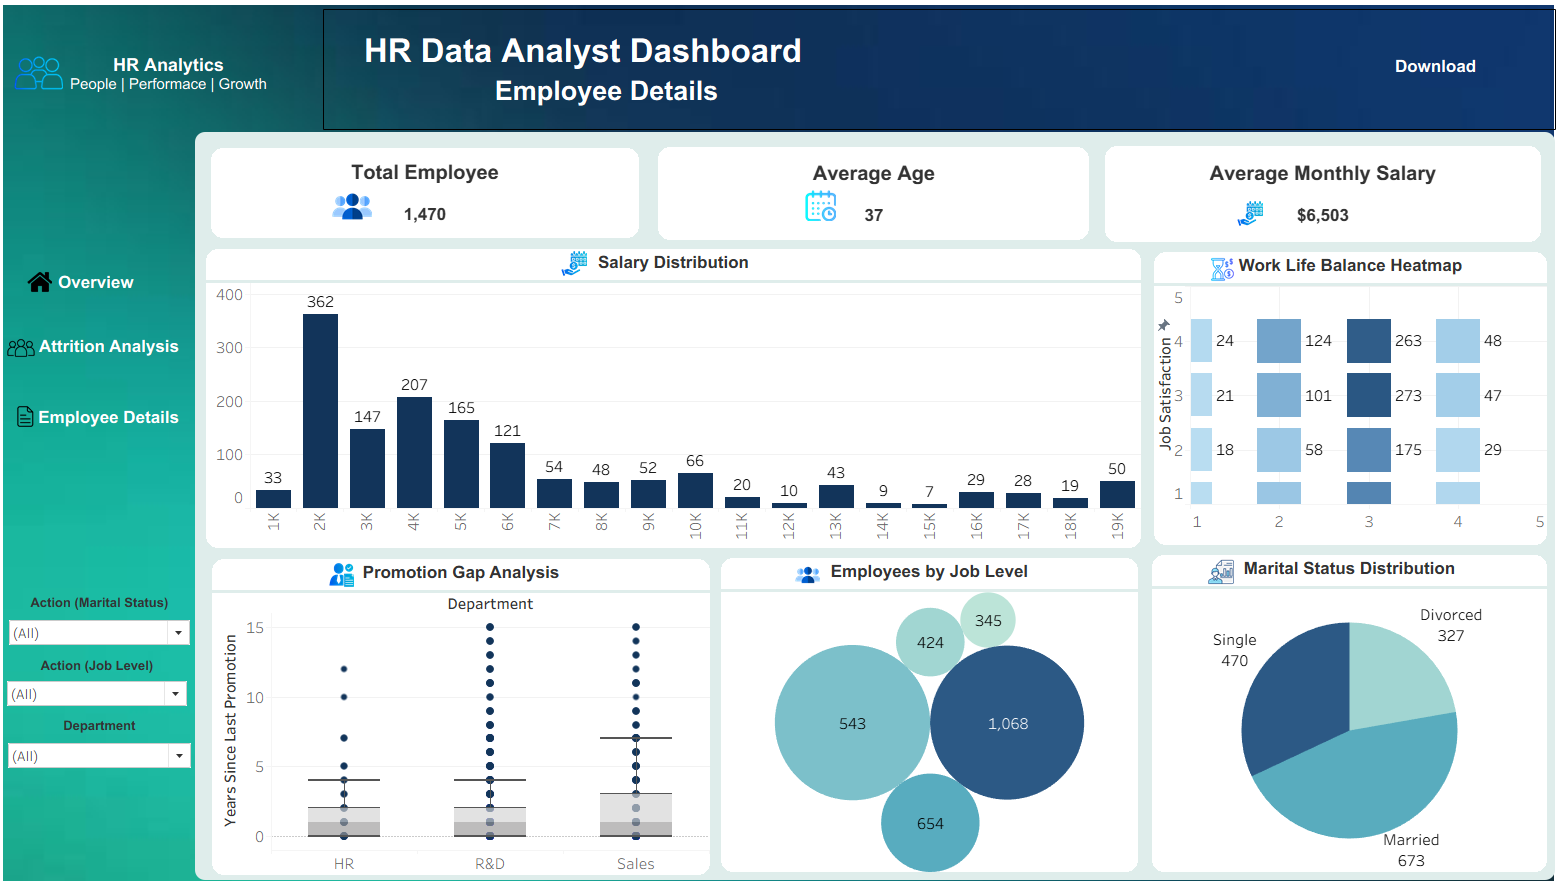

The page's visual inventory and layout, read from the dashboard file:
{"tool":"tableau","page":{"name":"Employee Details","canvas":[1580,900],"ordinal":1},"visuals":[{"type":"image","param":"C:/Users/User/OneDrive/Desktop/HR tableau Project/back.png","box":[8,8,1564,884]},{"type":"text","box":[334,16,1233,121]},{"type":"text","box":[54,39,251,84]},{"type":"dashboard-object","box":[1365,48,164,52]},{"type":"image","param":"C:/Users/User/Downloads/group (1).png","box":[25,54,49,51]},{"type":"blank","box":[206,139,1360,748]},{"type":"worksheet","title":"Average Monthly Salary","mark":"Automatic","box":[1116,153,436,96]},{"type":"worksheet","title":"Average_Age","mark":"Automatic","box":[669,154,431,93]},{"type":"worksheet","title":"Total Employee","mark":"Automatic","box":[222,155,428,90]},{"type":"image","param":"C:/Users/User/AppData/Local/Temp/TableauTemp/0cwefv51oyivfo18ijgc910dbd0g/Sheets","box":[340,193,46,40]},{"type":"image","param":"C:/Users/User/AppData/Local/Temp/TableauTemp/0cwefv51oyivfo18ijgc910dbd0g/Sheets","box":[815,197,33,31]},{"type":"image","param":"C:/Users/User/AppData/Local/Temp/TableauTemp/0cwefv51oyivfo18ijgc910dbd0g/Sheets","box":[1246,207,30,26]},{"type":"dashboard-object","box":[10,255,196,69]},{"type":"worksheet","title":"Salary Distribution","mark":"Bar","rows":["Employee Number"],"cols":["Monthly Income (bin) 2"],"box":[217,256,935,299]},{"type":"image","param":"C:/Users/User/Downloads/wages (1).png","box":[570,257,31,26]},{"type":"worksheet","title":"Work Life Balance Heatmap","mark":"Square","rows":["Job Satisfaction"],"cols":["Work Life Balance"],"box":[1165,259,393,293]},{"type":"image","param":"C:/Users/User/AppData/Local/Temp/TableauTemp/0cwefv51oyivfo18ijgc910dbd0g/Sheets","box":[1220,262,26,28]},{"type":"image","param":"C:/Users/User/Downloads/home (2).png","box":[38,276,26,25]},{"type":"dashboard-object","box":[12,323,192,62]},{"type":"image","param":"C:/Users/User/Downloads/teamwork.png","box":[16,338,31,34]},{"type":"dashboard-object","box":[10,392,193,65]},{"type":"image","param":"C:/Users/User/Downloads/page.png","box":[25,409,22,29]},{"type":"worksheet","title":"Marital Status Distribution","mark":"Pie","box":[1163,562,395,317]},{"type":"worksheet","title":"Employees by Job Level","mark":"Circle","box":[732,565,417,314]},{"type":"image","param":"C:/Users/User/AppData/Local/Temp/TableauTemp/0cwefv51oyivfo18ijgc910dbd0g/Sheets","box":[1215,565,33,27]},{"type":"worksheet","title":"Promotion Gap Analysis","mark":"Circle","rows":["Years Since Last Promotion"],"cols":["Department"],"box":[223,566,498,316]},{"type":"image","param":"C:/Users/User/AppData/Local/Temp/TableauTemp/0cwefv51oyivfo18ijgc910dbd0g/Sheets","box":[340,569,26,25]},{"type":"image","param":"C:/Users/User/AppData/Local/Temp/TableauTemp/0cwefv51oyivfo18ijgc910dbd0g/Sheets","box":[801,569,36,25]},{"type":"filter","title":"Salary Distribution","param":"[federated.17kbyo00i53ng917owns715d3iit].[Action (Marital Status)]","box":[17,602,187,56]},{"type":"filter","title":"Work Life Balance Heatmap","param":"[federated.17kbyo00i53ng917owns715d3iit].[Action (Job Level)]","box":[15,665,186,50]},{"type":"filter","title":"Promotion Gap Analysis","param":"[federated.17kbyo00i53ng917owns715d3iit].[none:Department:nk]","box":[16,725,189,64]}]}

Visuals, with their boxes in screenshot pixels (x1, y1, x2, y2), scaled from the page's 1580x900 canvas onto the 1557x887 screenshot:
image: BBox(8, 8, 1549, 879)
text: BBox(329, 16, 1544, 135)
text: BBox(53, 38, 301, 121)
dashboard-object: BBox(1345, 47, 1507, 99)
image: BBox(25, 53, 73, 103)
blank: BBox(203, 137, 1543, 874)
"Average Monthly Salary" worksheet: BBox(1100, 151, 1529, 245)
"Average_Age" worksheet: BBox(659, 152, 1084, 243)
"Total Employee" worksheet: BBox(219, 153, 641, 241)
image: BBox(335, 190, 380, 230)
image: BBox(803, 194, 836, 225)
image: BBox(1228, 204, 1257, 230)
dashboard-object: BBox(10, 251, 203, 319)
"Salary Distribution" worksheet (Bar marks): BBox(214, 252, 1135, 547)
image: BBox(562, 253, 592, 279)
"Work Life Balance Heatmap" worksheet (Square marks): BBox(1148, 255, 1535, 544)
image: BBox(1202, 258, 1228, 286)
image: BBox(37, 272, 63, 297)
dashboard-object: BBox(12, 318, 201, 379)
image: BBox(16, 333, 46, 367)
dashboard-object: BBox(10, 386, 200, 450)
image: BBox(25, 403, 46, 432)
"Marital Status Distribution" worksheet (Pie marks): BBox(1146, 554, 1535, 866)
"Employees by Job Level" worksheet (Circle marks): BBox(721, 557, 1132, 866)
image: BBox(1197, 557, 1230, 583)
"Promotion Gap Analysis" worksheet (Circle marks): BBox(220, 558, 711, 869)
image: BBox(335, 561, 361, 585)
image: BBox(789, 561, 825, 585)
"Salary Distribution" filter: BBox(17, 593, 201, 648)
"Work Life Balance Heatmap" filter: BBox(15, 655, 198, 705)
"Promotion Gap Analysis" filter: BBox(16, 715, 202, 778)
